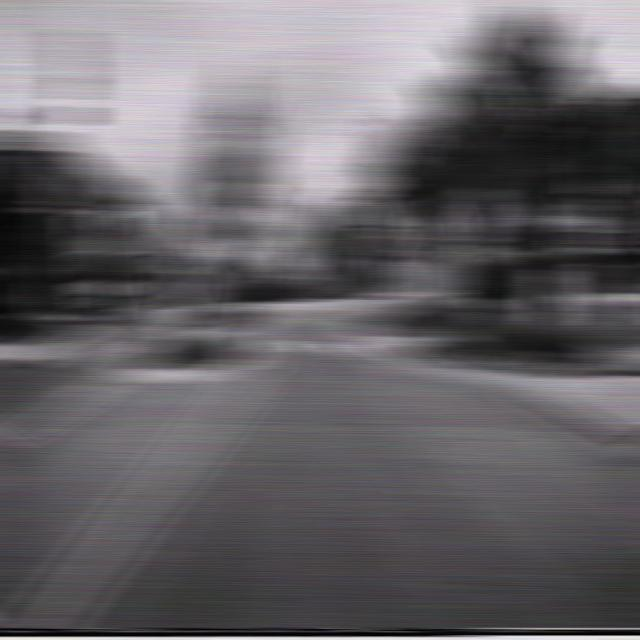pedestrianCrossing: (411, 195, 460, 251), (314, 252, 344, 274)
yield: (223, 179, 262, 212)
